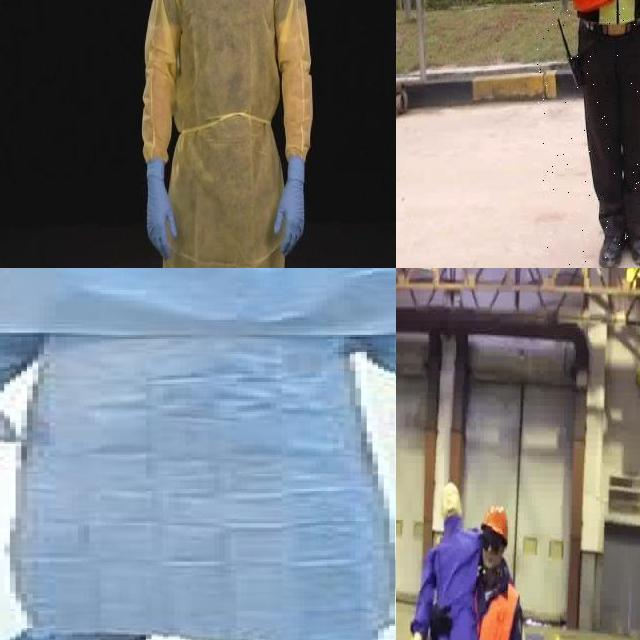BOOTS: (596, 228, 629, 268), (627, 228, 640, 268)
GLASS: (482, 533, 501, 554)
GLOVE: (429, 605, 454, 640)
Glove: (138, 155, 176, 260), (280, 155, 306, 257), (0, 394, 33, 467)
HELMET: (485, 504, 510, 544)
VEST: (479, 577, 521, 640)
